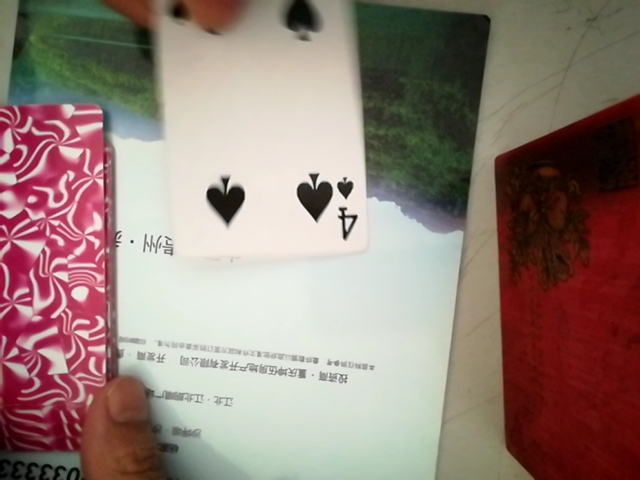ht 4: (151, 0, 370, 260)
